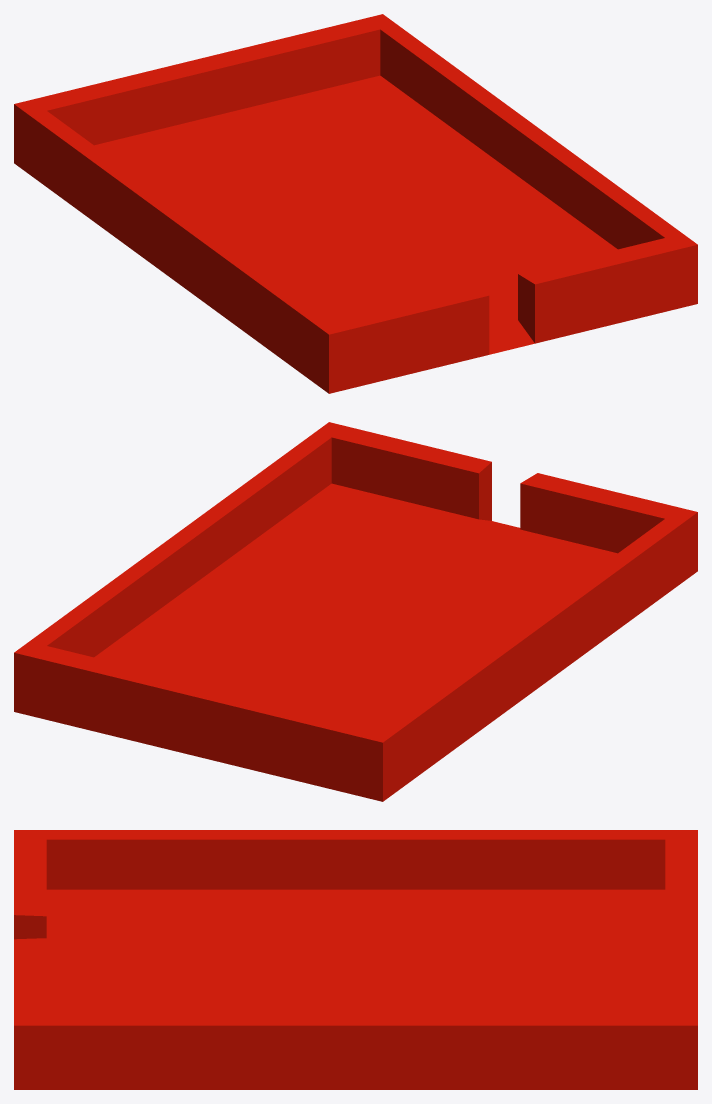
File: Walls.fbx
3 views of the same model, one above another, from view 1: azimuth 30°, elevation 25°; view 2: azimuth 150°, elevation 25°; view 3: azimuth 270°, elevation 25° (orthographic). The views are drawn at different scales.
Parts seen in each view (by area): view 1: Cube; view 2: Cube; view 3: Cube.
Boxes of the visible parts, x1,y1,x2,y2 form: Cube: (14,14,697,393); Cube: (14,422,697,801); Cube: (14,830,697,1089).
Bounding box in the file's own units: 1449 × 222 × 2143.
